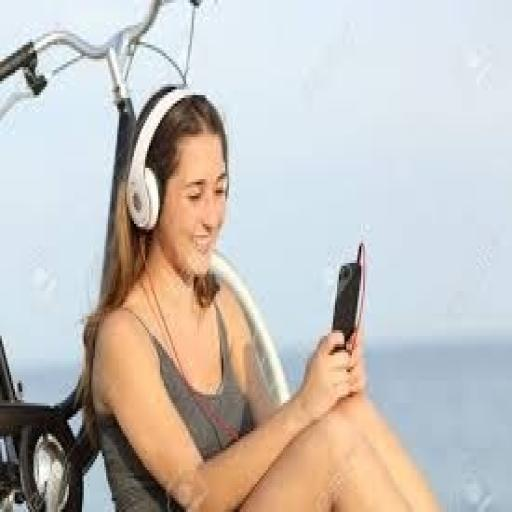listening_to_music: (82, 81, 447, 509)
